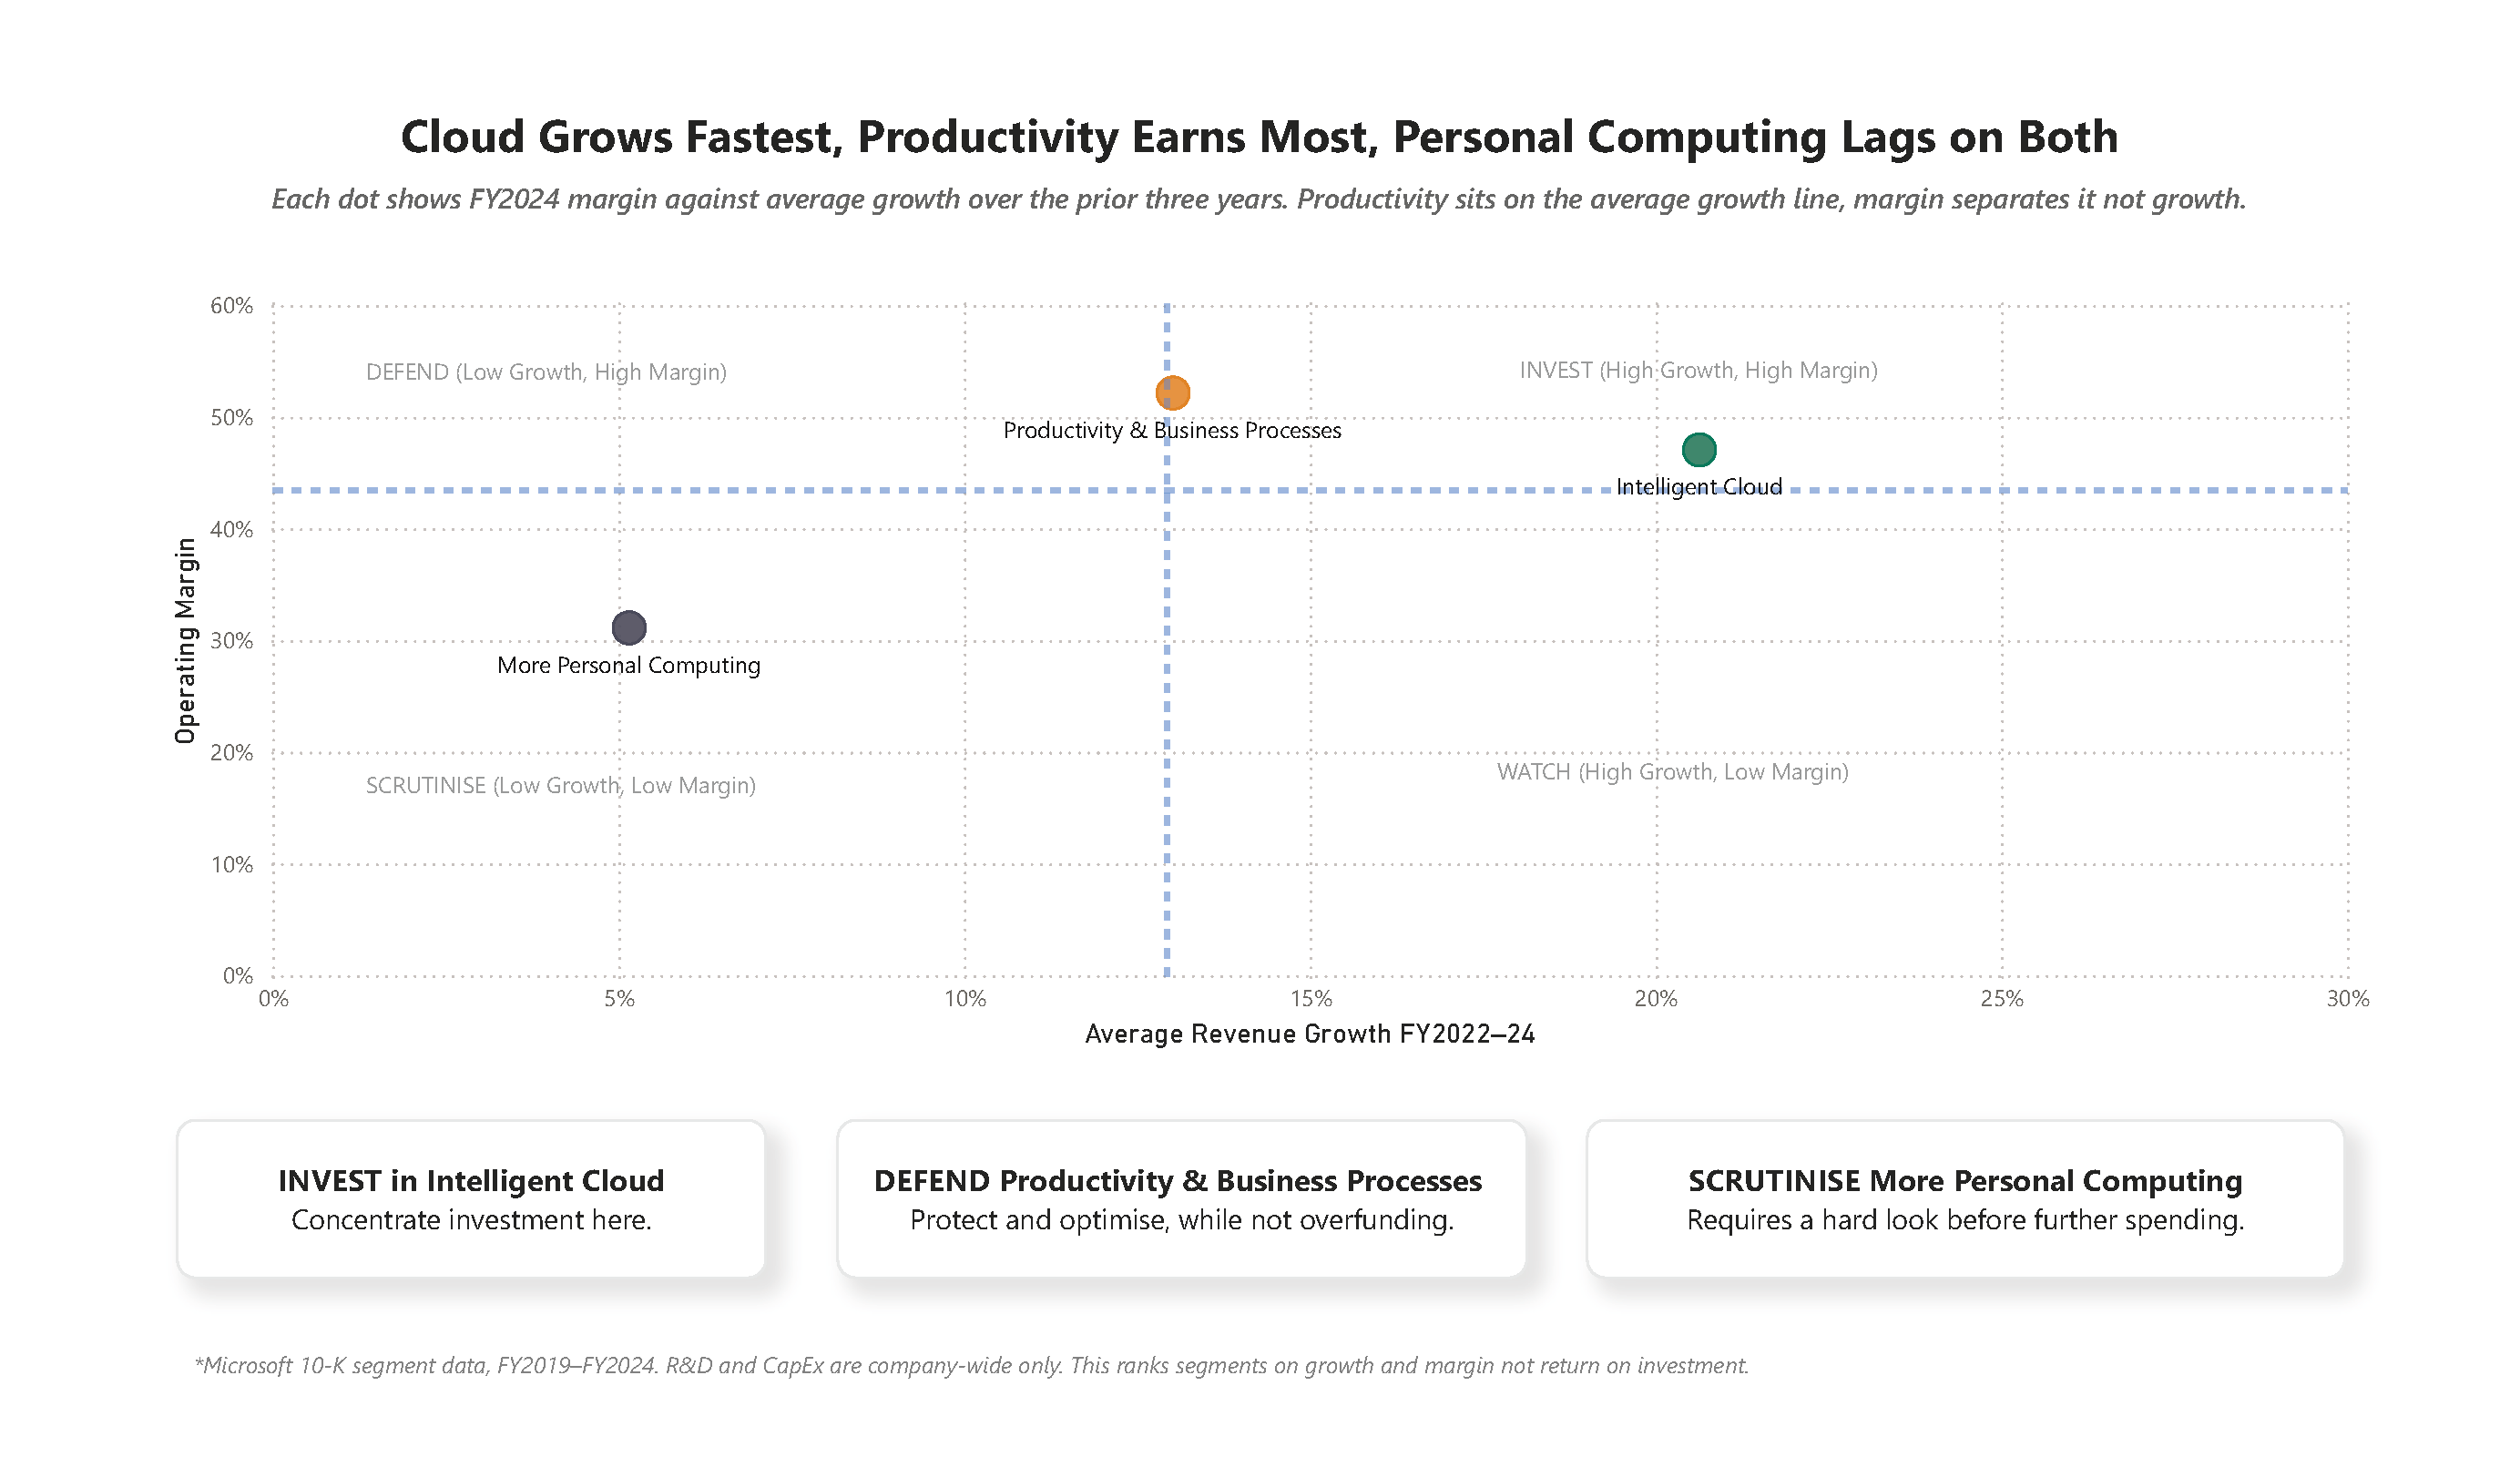

The dashboard page shown, as its layout file describes it:
{"tool":"powerbi","page":{"name":"Page 2","canvas":[1280,720],"ordinal":1},"visuals":[{"type":"textbox","box":[169.2,25.4,941.7,46.7],"z":0},{"type":"scatterChart","title":"Cloud Grows Fastest, Productivity Earns Most, Personal Computing Lags on Both","fields":{"Y":["Avg(microsoft_segments_analysed.operating_margin)"],"Category":["microsoft_segments_analysed.segment"],"X":["Avg(microsoft_segments_analysed.growth_3yr_avg)"]},"box":[60,122.7,1170,410.7],"z":0,"group":"g1"},{"type":"textbox","box":[111,65.2,1057.1,31.4],"z":1000},{"type":"textbox","box":[772.3,155.4,284.3,56.1],"z":1000,"group":"g1"},{"type":"group","id":"g1","title":"Group 1","box":[60,122.7,1170,410],"z":2000},{"type":"textbox","box":[164.5,156.9,239,54.6],"z":2000,"group":"g1"},{"type":"textbox","box":[759.8,367.4,296.8,57.6],"z":3000,"group":"g1"},{"type":"group","id":"g2","title":"Group 2","box":[68.6,565.7,1142.9,84.3],"z":3000},{"type":"textbox","box":[68.6,565.7,311,84.3],"z":3000,"group":"g2"},{"type":"textbox","box":[164.5,375,281.2,48.5],"z":4000,"group":"g1"},{"type":"textbox","box":[416.7,565.7,363.8,84.3],"z":4000,"group":"g2"},{"type":"textbox","box":[0,681,1280,30],"z":4000},{"type":"textbox","box":[811.9,565.7,399.5,84.3],"z":5000,"group":"g2"}]}

Visuals, with their boxes on the page's 1280x720 design canvas (x1, y1, x2, y2). These are canvas units, not pixel positions in the 2520x1457 screenshot, which may show the page scaled, cropped or inside an application window:
textbox: x1=169, y1=25, x2=1111, y2=72
"Cloud Grows Fastest, Productivity Earns Most, Personal Computing Lags on Both" scatterChart: x1=60, y1=123, x2=1230, y2=533
textbox: x1=111, y1=65, x2=1168, y2=97
textbox: x1=772, y1=155, x2=1057, y2=212
"Group 1" group: x1=60, y1=123, x2=1230, y2=533
textbox: x1=164, y1=157, x2=404, y2=212
textbox: x1=760, y1=367, x2=1057, y2=425
"Group 2" group: x1=69, y1=566, x2=1212, y2=650
textbox: x1=69, y1=566, x2=380, y2=650
textbox: x1=164, y1=375, x2=446, y2=424
textbox: x1=417, y1=566, x2=780, y2=650
textbox: x1=0, y1=681, x2=1280, y2=711
textbox: x1=812, y1=566, x2=1211, y2=650
